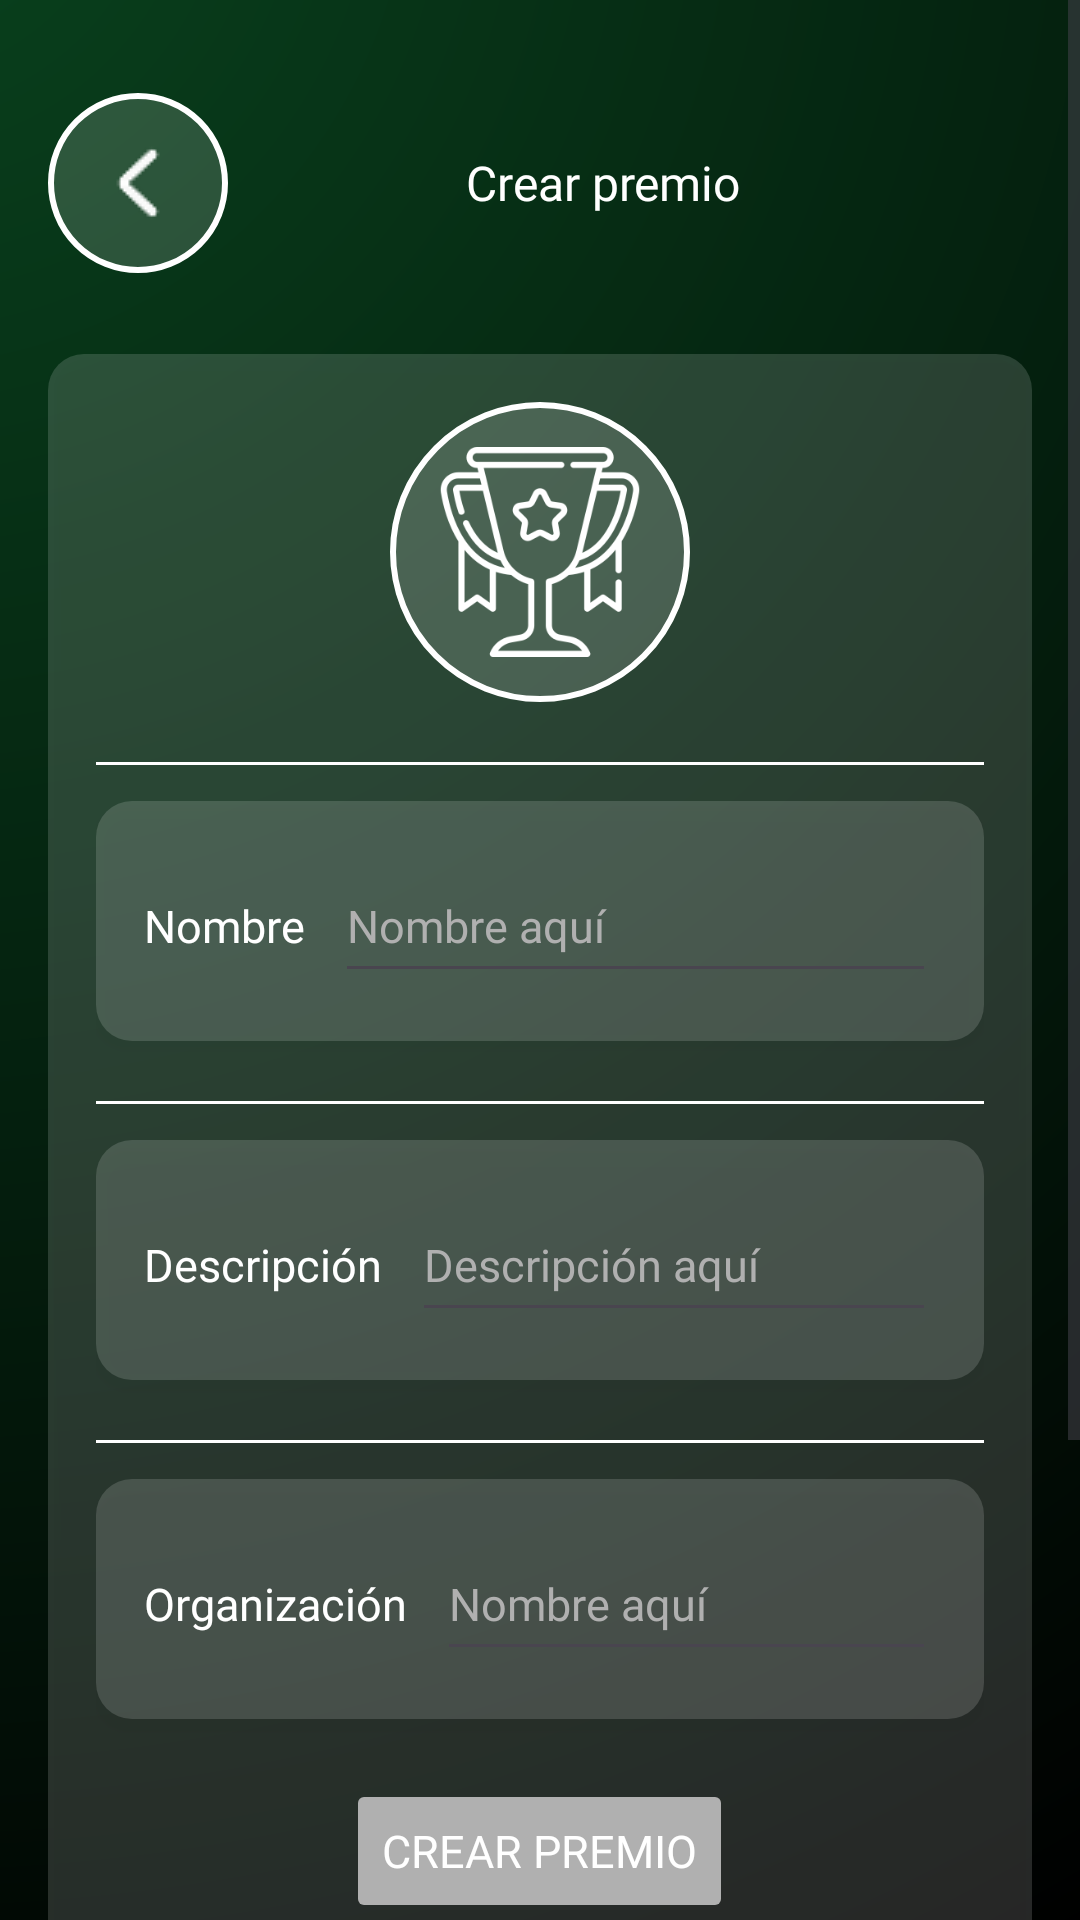

Icon click points for this 1080×1920 phone screenshot, format (x,y):
Icono de premio: (540,552)
Volver a la lista de premios: (138,183)
